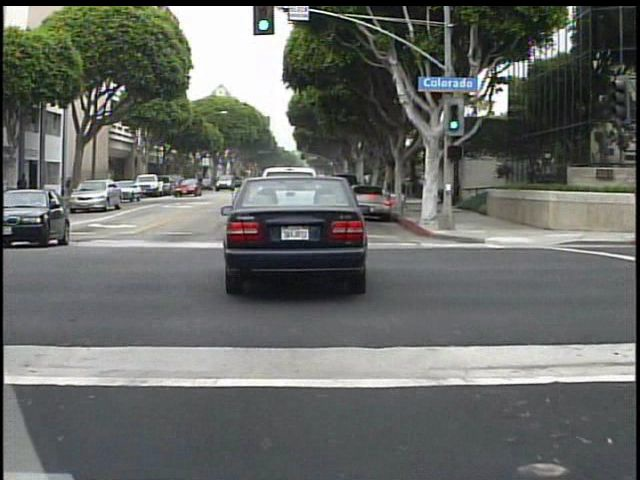person: (16, 169, 34, 209)
